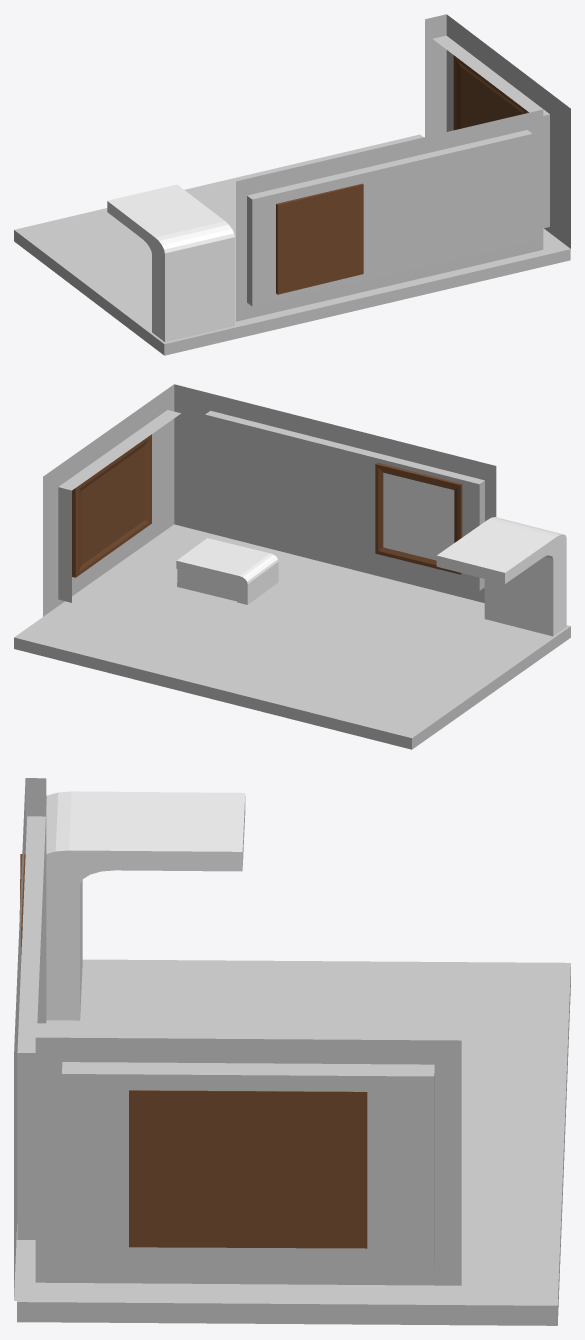
File: booth_a.glb
The picture shows the model from 3 angles, top to bottom: view 1: azimuth 30°, elevation 25°; view 2: azimuth 150°, elevation 25°; view 3: azimuth 270°, elevation 25°; orthographic projection. The views are drawn at different scales.
Visible parts, largest first — view 1: TRM_Wall, TRM_Floor, TRM_Podium, IMG_Frame, VID_Slot_1, VID_Frame; view 2: TRM_Floor, TRM_Wall, TRM_Podium, IMG_Slot_1, TRM_Table, VID_Slot_1, VID_Frame, IMG_Frame; view 3: TRM_Wall, TRM_Floor, VID_Frame, TRM_Podium.
Part boxes in pixels (left/top/right/bottom): TRM_Wall: left=236, top=14, right=570, bottom=325; TRM_Floor: left=14, top=134, right=570, bottom=355; TRM_Podium: left=107, top=184, right=234, bottom=341; IMG_Frame: left=276, top=183, right=363, bottom=294; VID_Slot_1: left=460, top=67, right=521, bottom=128; VID_Frame: left=453, top=55, right=528, bottom=130; TRM_Floor: left=14, top=534, right=570, bottom=749; TRM_Wall: left=43, top=384, right=496, bottom=622; TRM_Podium: left=436, top=517, right=566, bottom=636; IMG_Slot_1: left=383, top=472, right=454, bottom=560; TRM_Table: left=176, top=538, right=278, bottom=604; VID_Slot_1: left=81, top=445, right=144, bottom=565; VID_Frame: left=72, top=434, right=151, bottom=577; IMG_Frame: left=375, top=462, right=462, bottom=574; TRM_Wall: left=14, top=778, right=461, bottom=1303; TRM_Floor: left=17, top=959, right=570, bottom=1325; VID_Frame: left=129, top=1090, right=367, bottom=1248; TRM_Podium: left=46, top=791, right=245, bottom=1020.
Size of the model in its own units: 11.35 by 4.06 by 7.7.
